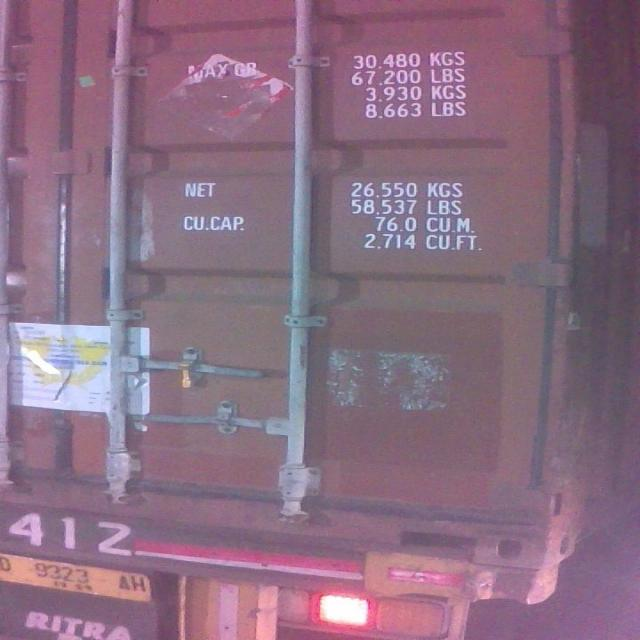seal: (176, 355, 200, 390)
